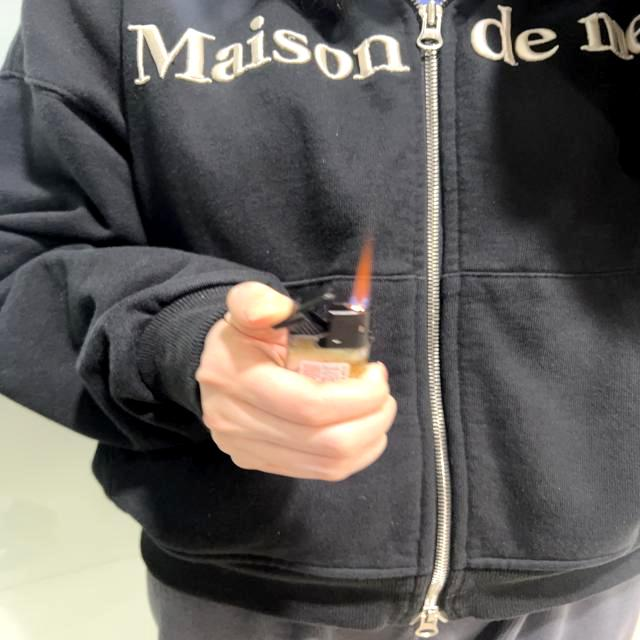fire: (345, 235, 375, 309)
